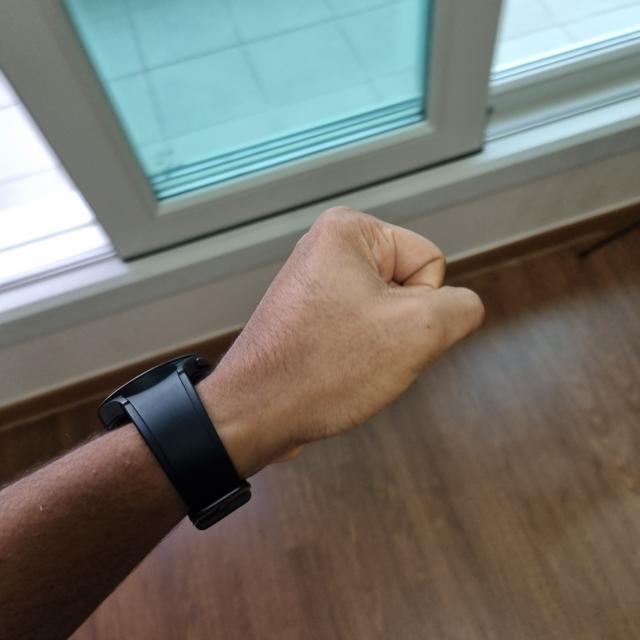Rock: (215, 208, 480, 446)
